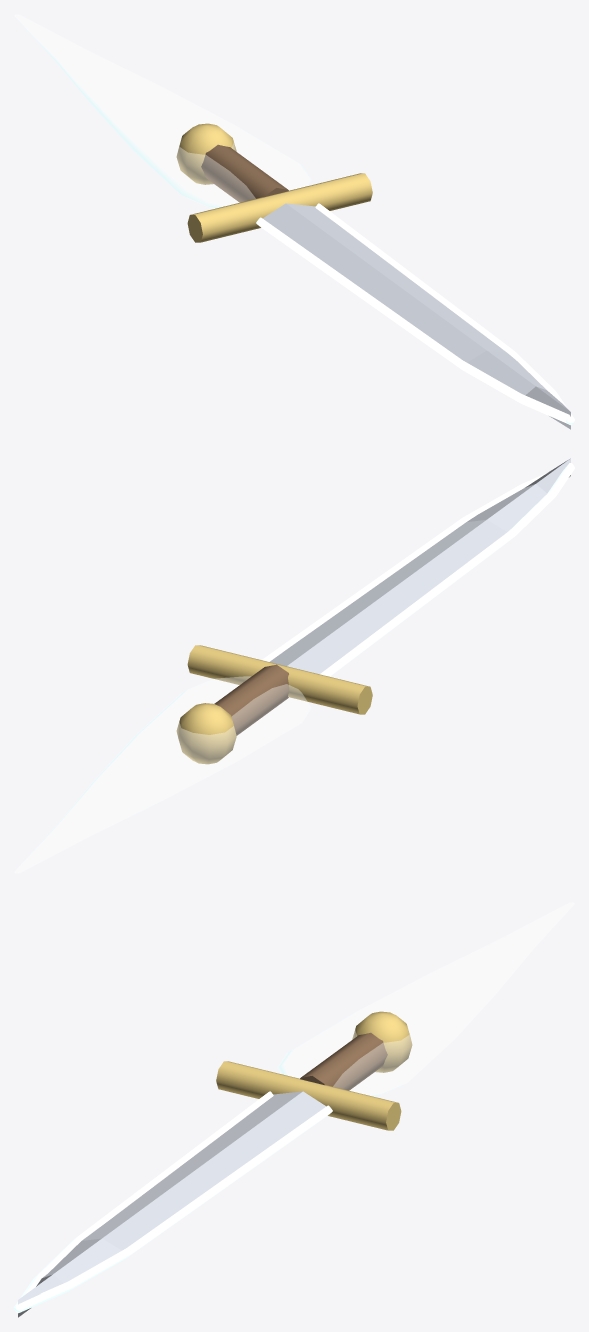
File: throw_sword.glb
3 views of the same model, one above another, from view 1: azimuth 30°, elevation 25°; view 2: azimuth 150°, elevation 25°; view 3: azimuth 330°, elevation 25° (orthographic).
Parts seen in each view (by area): view 1: sword, trail; view 2: sword, trail; view 3: sword, trail.
Part boxes in pixels (x1=…): sword: x1=176, y1=123, x2=574, y2=429; trail: x1=14, y1=14, x2=311, y2=208; sword: x1=176, y1=458, x2=574, y2=764; trail: x1=14, y1=676, x2=311, y2=873; sword: x1=14, y1=1011, x2=412, y2=1317; trail: x1=277, y1=902, x2=574, y2=1096.
Size of the model in its own units: 0.14 by 0.044 by 0.7944.
